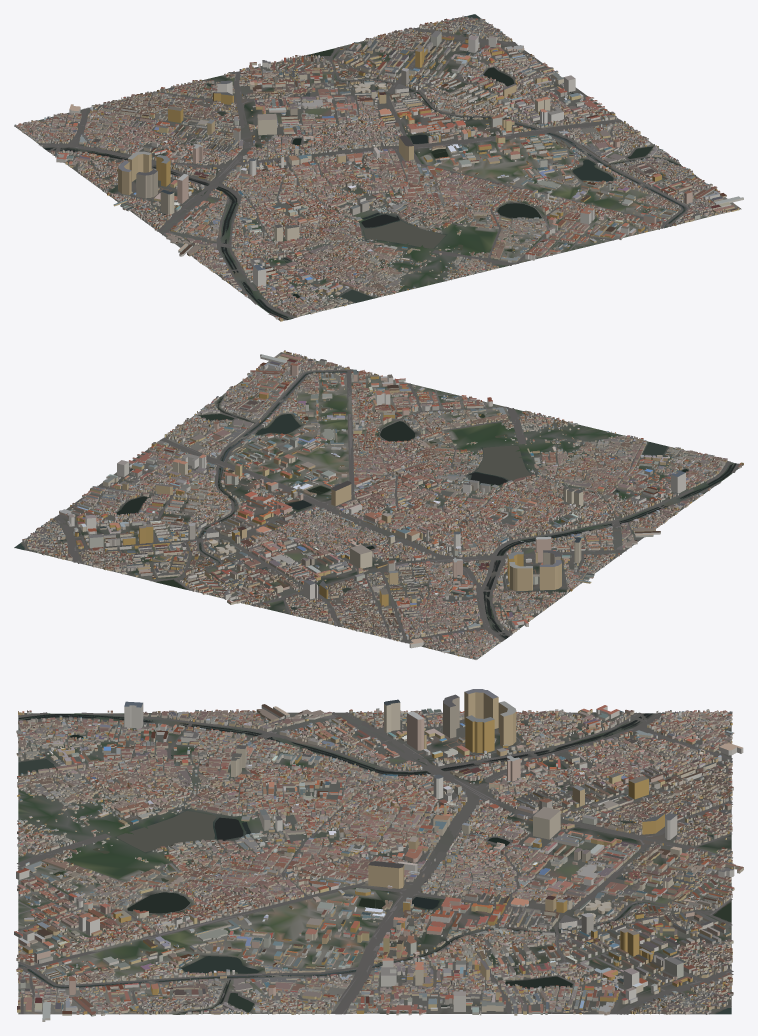
3 renders of one model, top to bottom at view 1: azimuth 30°, elevation 25°; view 2: azimuth 150°, elevation 25°; view 3: azimuth 270°, elevation 25°, orthographic. The views are drawn at different scales.
Parts seen in each view (by area): view 1: buildings, ground, roads, water; view 2: buildings, ground, roads, water; view 3: buildings, ground, roads, water.
Boxes of the visible parts, bbox=[...] form: buildings: bbox=[14, 15, 743, 321]; ground: bbox=[14, 17, 741, 320]; roads: bbox=[39, 17, 740, 320]; water: bbox=[44, 14, 686, 319]; buildings: bbox=[22, 350, 743, 659]; ground: bbox=[14, 352, 743, 659]; roads: bbox=[22, 352, 739, 652]; water: bbox=[14, 371, 736, 638]; buildings: bbox=[14, 689, 743, 1021]; ground: bbox=[18, 712, 731, 1014]; roads: bbox=[17, 712, 733, 1014]; water: bbox=[18, 713, 731, 1014].
Size of the model in its own units: 2926 by 143 by 2869.
